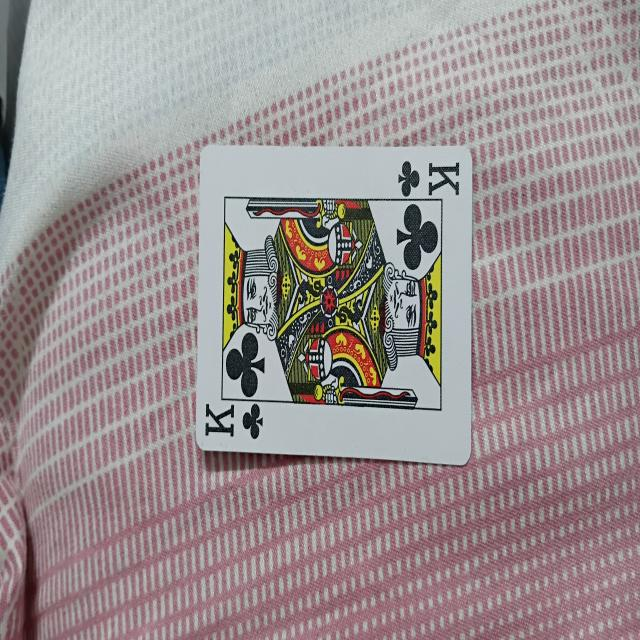KC: (194, 141, 476, 470)
